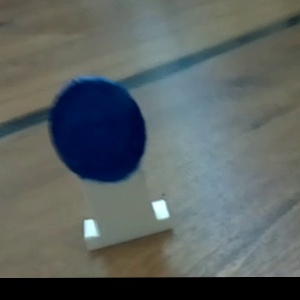circle: (36, 72, 189, 249)
